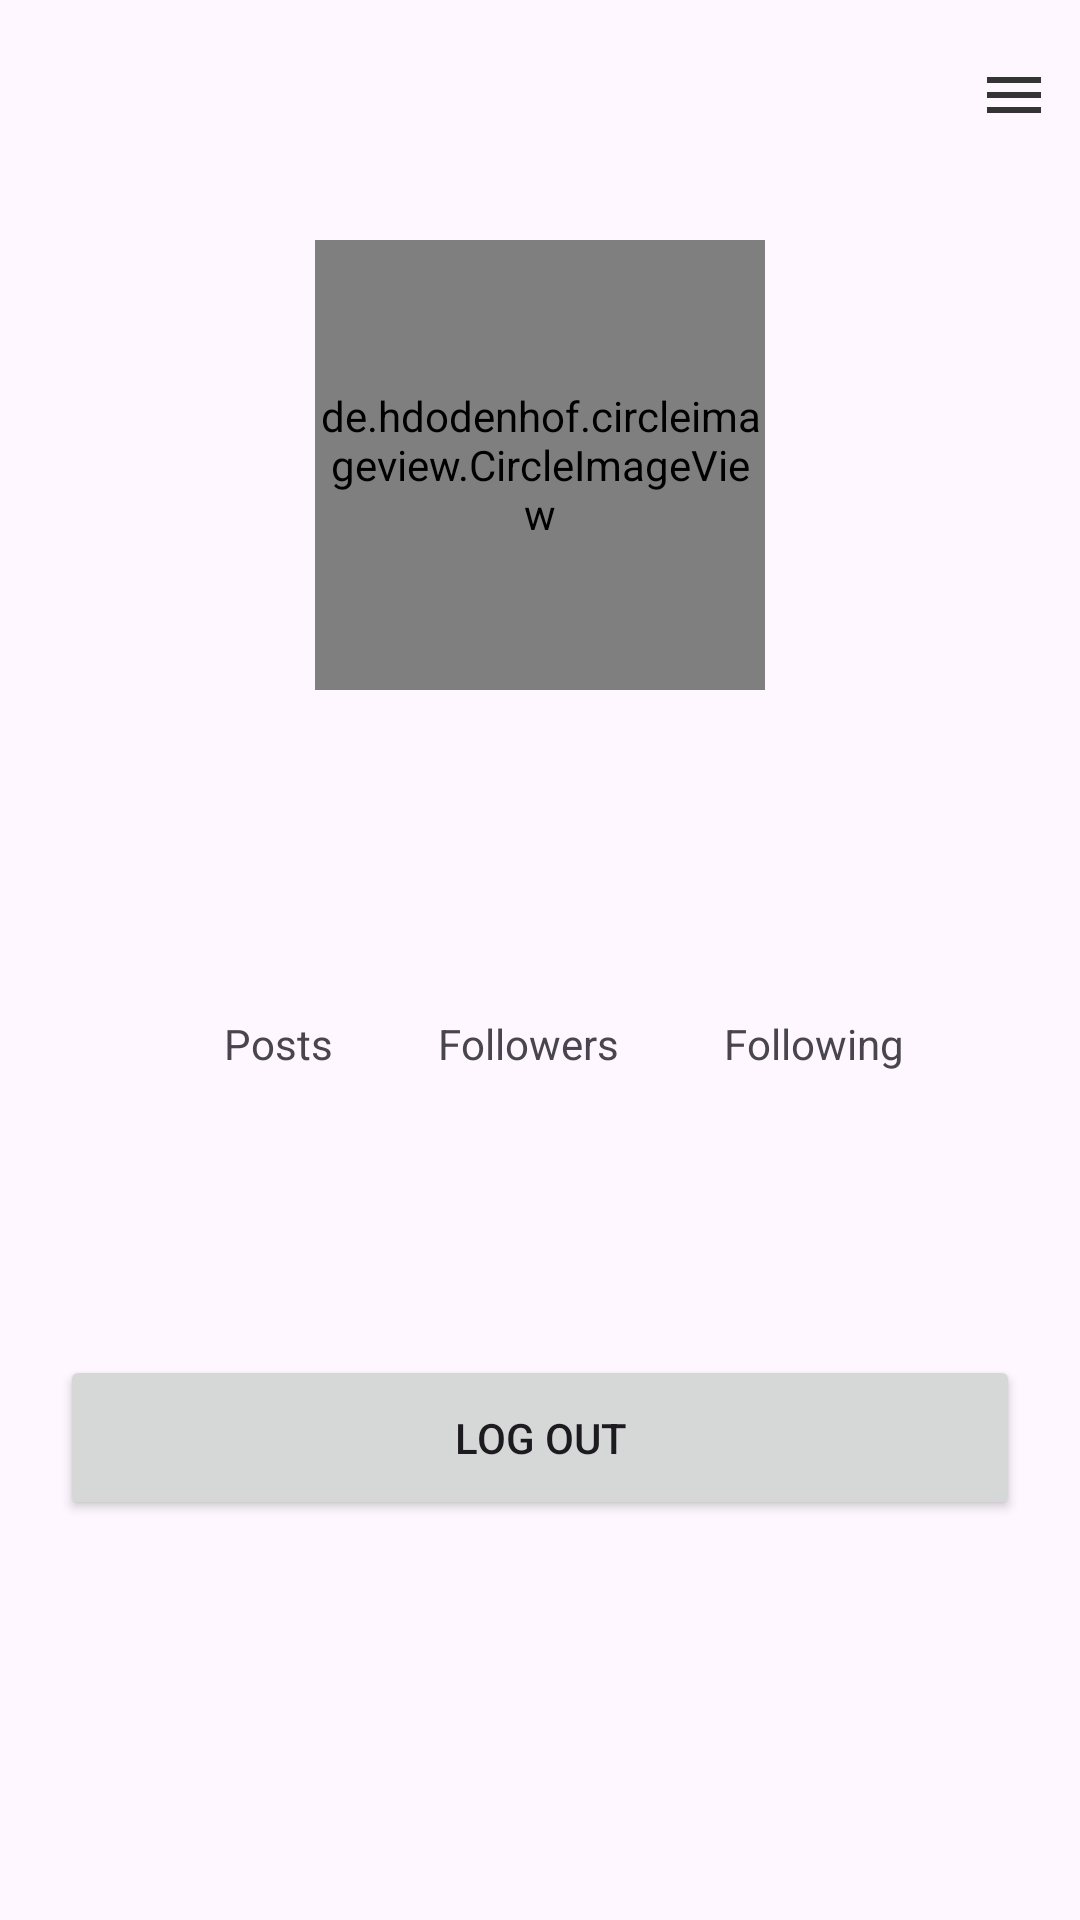

Named icons in this screenshot (1080px x 1920px) and their centers, (x=x, y=y):
menu: (x=1014, y=95)
